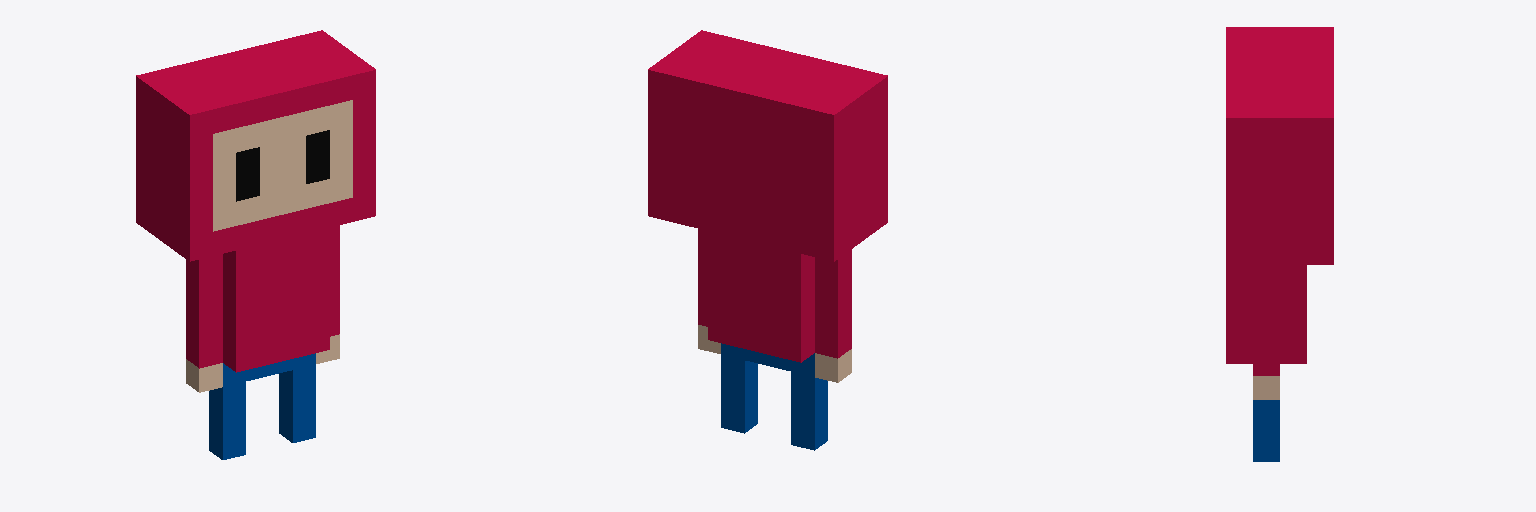
3 renders of one model, left to right at view 1: azimuth 30°, elevation 25°; view 2: azimuth 150°, elevation 25°; view 3: azimuth 270°, elevation 25°, orthographic.
Parts seen in each view (by area): view 1: object 1; view 2: object 1; view 3: object 1.
Part boxes in pixels (bbox=[...]): object 1: bbox=[136, 30, 375, 459]; object 1: bbox=[648, 30, 887, 450]; object 1: bbox=[1226, 27, 1333, 461].
Bounding box in the file's own units: 0.8 × 1.5 × 0.4.
Materials: 1 (1 with a texture image).